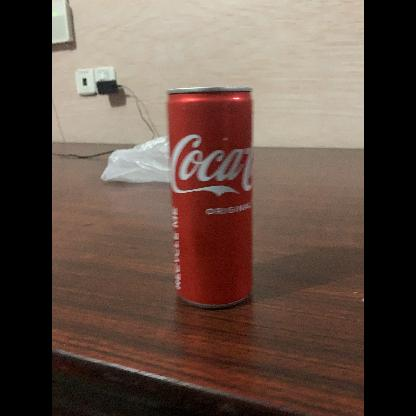Tin_Can: (161, 71, 263, 321)
